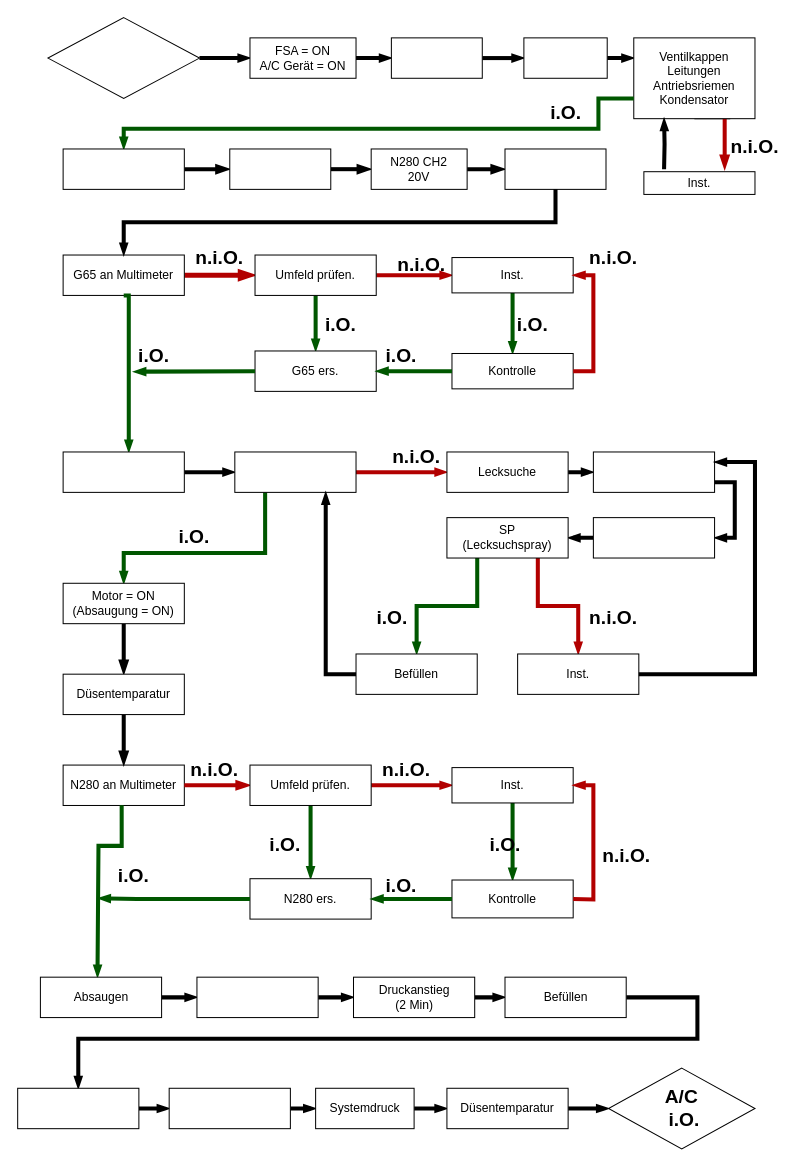
Image size: 803x1167. Some labels were removed from this diagram. Each missing label, with the centre of its shape:
A/C Gerät adaptieren: the point at 436,57
A/C o.F.: the point at 123,57
Ausgangsmessung: the point at 78,1108
Eingangsmessung: the point at 123,471
Evakuieren (4 Min): the point at 257,997
FSA adpatieren: the point at 123,168
G65 CH1 5V: the point at 280,168
Hörprobe: the point at 653,537
Kennlinie 30 Min: the point at 555,168
Motor = ON\ (Absaugung = ON): the point at 229,1108
SP A/C: the point at 565,57
Standhaltedruck: the point at 295,471
Stickstoff füllen (20Bar): the point at 653,471
